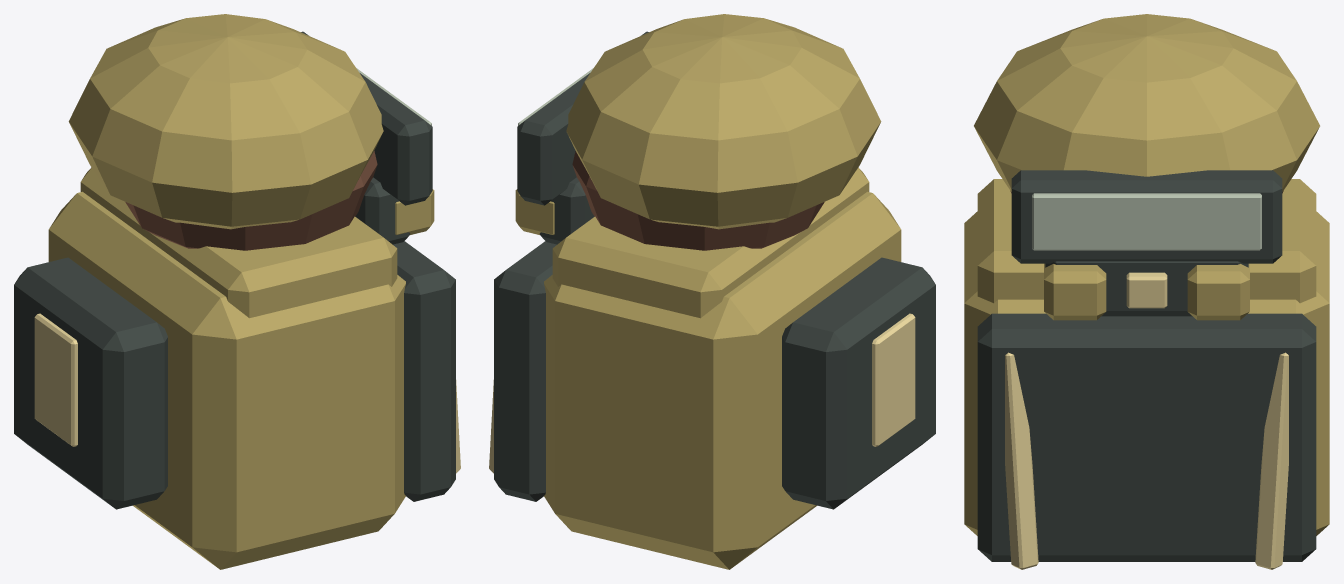
The model's file is hazard.signature.glb.
3 renders of one model, left to right at view 1: azimuth 30°, elevation 25°; view 2: azimuth 150°, elevation 25°; view 3: azimuth 270°, elevation 25°, orthographic. The views are drawn at different scales.
Parts seen in each view (by area): view 1: hazard_signature__main__torso, hazard_signature__main__head; view 2: hazard_signature__main__torso, hazard_signature__main__head; view 3: hazard_signature__main__torso, hazard_signature__main__head.
Part boxes in pixels (x1,y1,x2,y2): hazard_signature__main__torso: (14, 167, 460, 569); hazard_signature__main__head: (68, 14, 434, 250); hazard_signature__main__torso: (489, 167, 935, 569); hazard_signature__main__head: (515, 14, 881, 250); hazard_signature__main__torso: (964, 179, 1329, 569); hazard_signature__main__head: (974, 14, 1319, 320).
Bounding box in the file's own units: 30.76 × 39 × 27.
